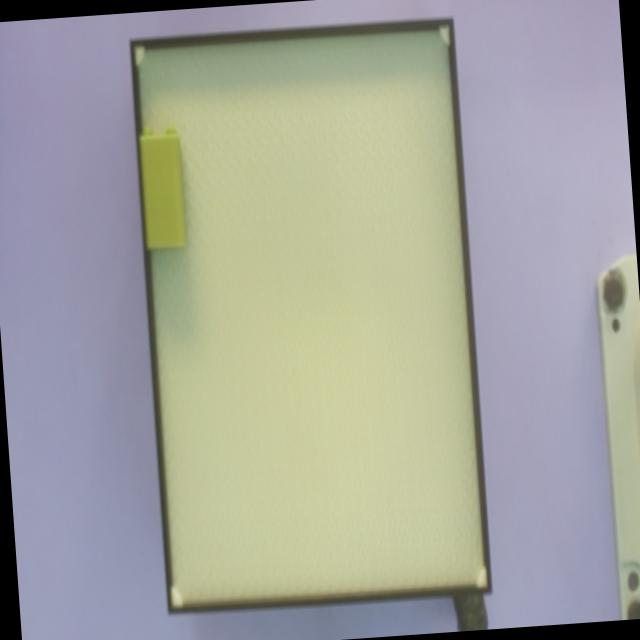Bateria: (139, 134, 186, 248)
Mesa: (129, 16, 492, 613)
Pestana: (165, 124, 176, 133), (144, 126, 152, 134)
